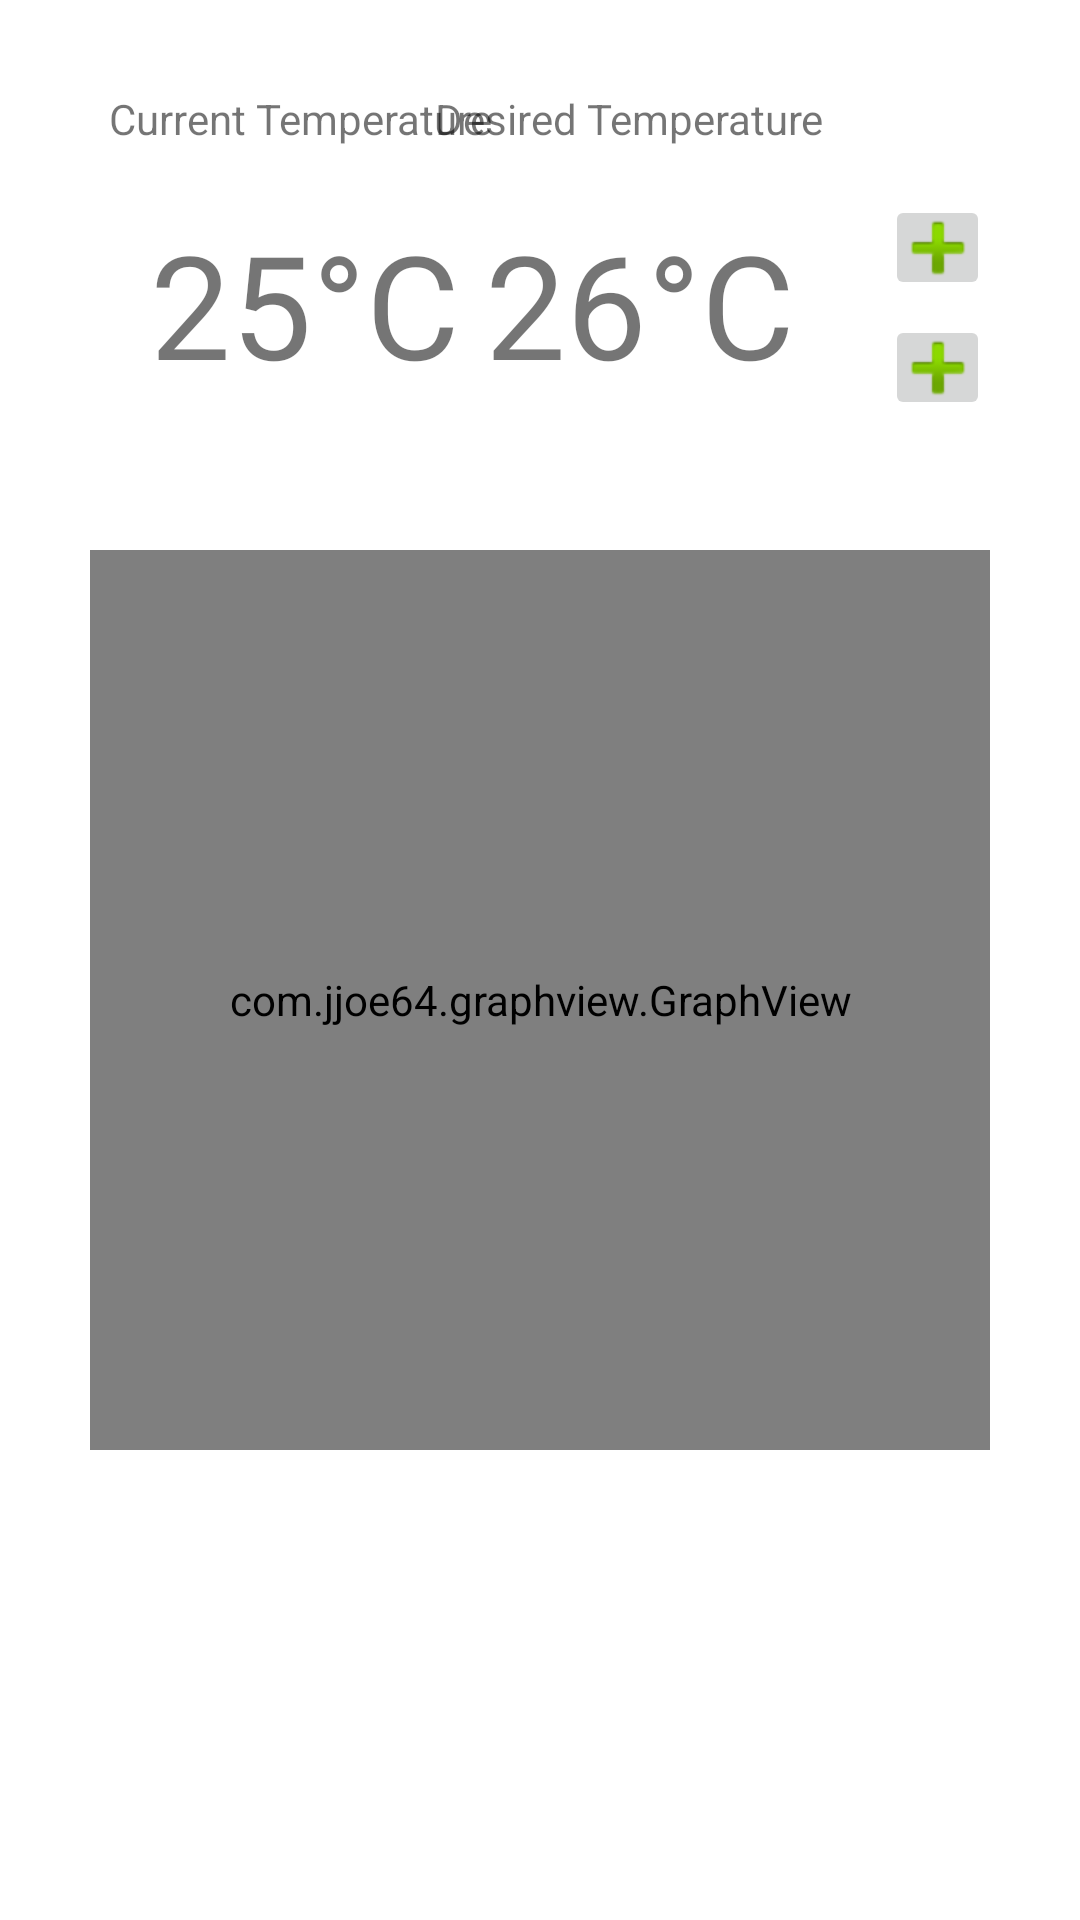

Where icons sit on this 1080px x 1920px app screen, as [x1=x1, y1=y1, x2=x2, y2=y2]:
add: [x1=897, y1=213, x2=978, y2=282], [x1=897, y1=333, x2=978, y2=402]
